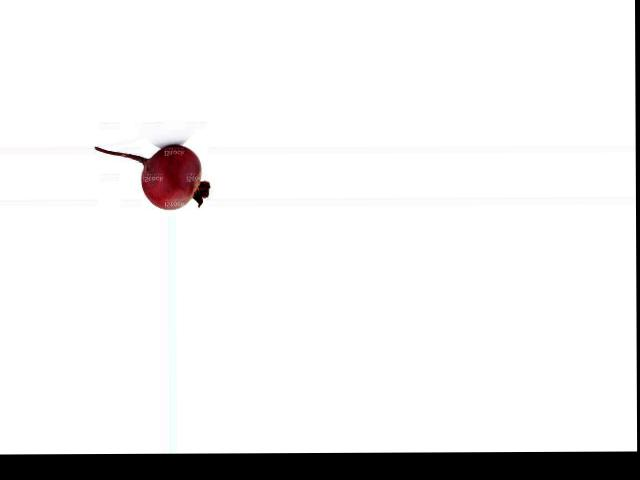beet: (95, 144, 210, 209)
